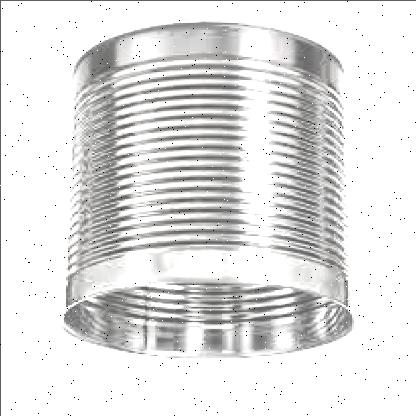Can: (62, 18, 362, 366)
